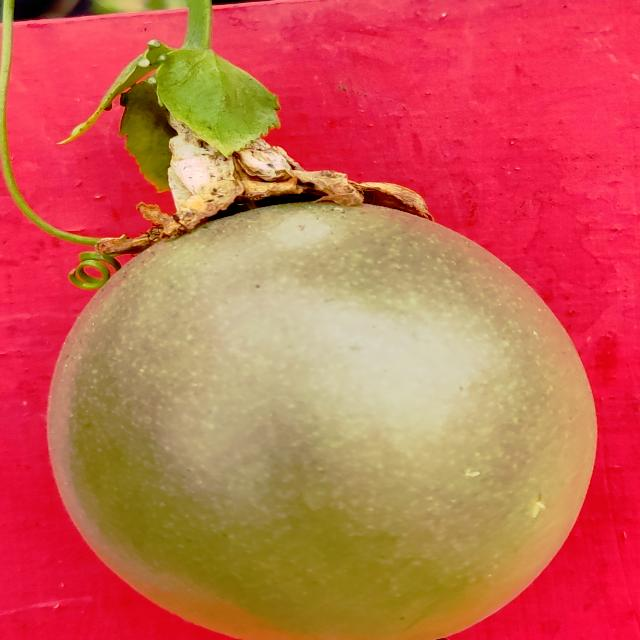Estado-1: (49, 0, 596, 640)
